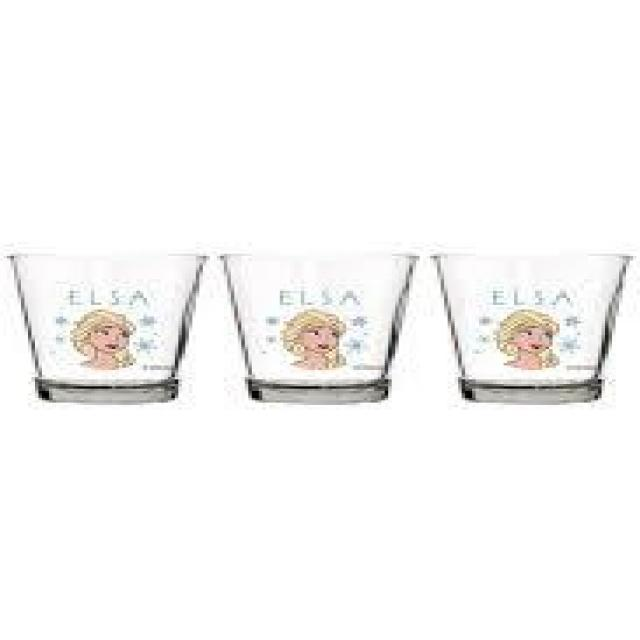non-organic waste: (210, 249, 427, 410)
